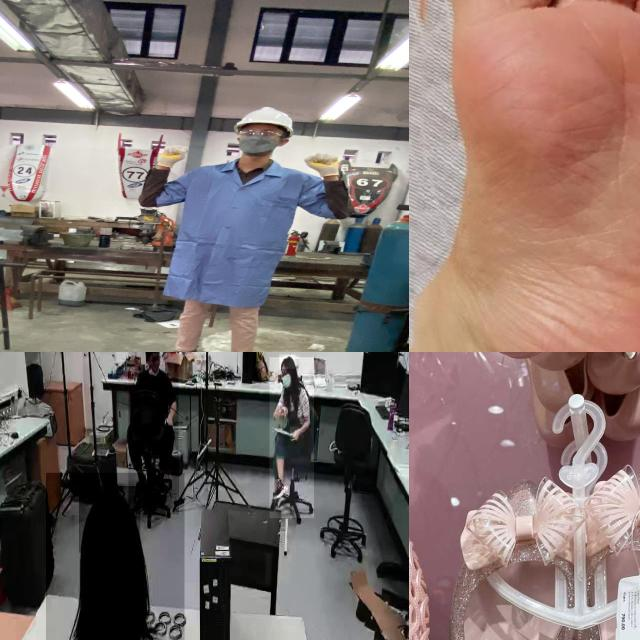Barefoots: (440, 0, 640, 352)
Sandals: (435, 437, 640, 640)
face_mask: (233, 127, 285, 153), (279, 371, 294, 396)
face_nomask: (146, 354, 160, 372)
glasses: (233, 128, 286, 140)
hand_glove: (300, 151, 348, 175), (147, 143, 193, 168)
hand_noglove: (290, 426, 300, 441), (278, 404, 288, 418), (163, 414, 173, 427)
head_helmet: (232, 105, 299, 134)
head_nohelmet: (79, 486, 141, 554), (280, 354, 296, 370)
person: (131, 100, 359, 352), (46, 472, 185, 640), (128, 352, 179, 514), (270, 357, 314, 519)
shoes: (140, 344, 203, 352), (272, 476, 292, 500)
